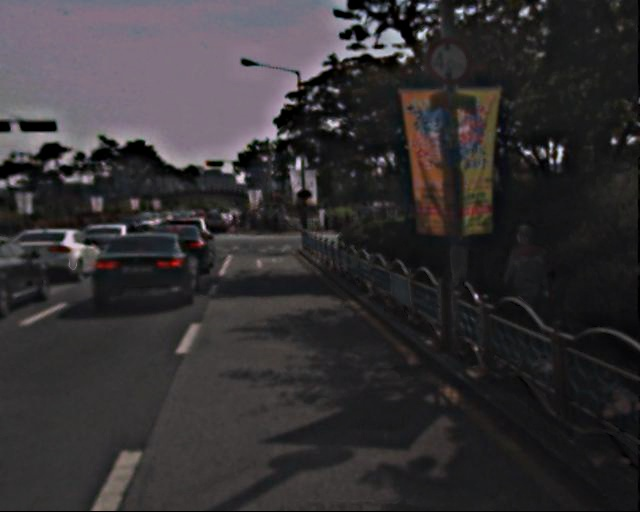person: (498, 223, 556, 360)
